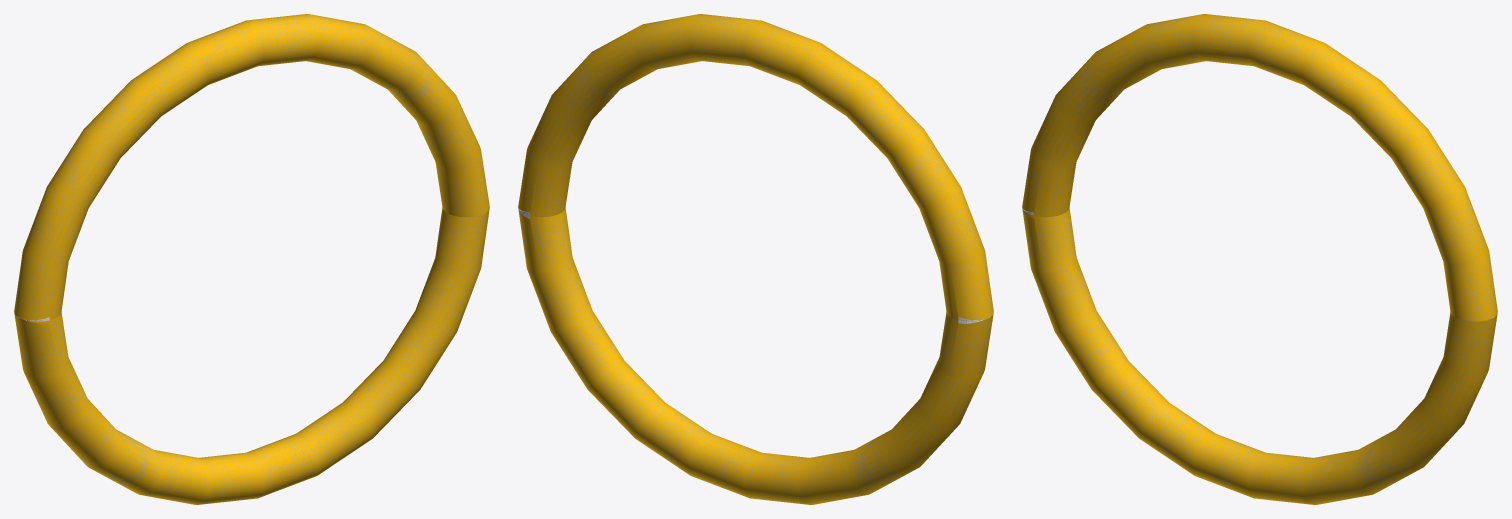
The picture shows the model from 3 angles, left to right: view 1: azimuth 30°, elevation 25°; view 2: azimuth 150°, elevation 25°; view 3: azimuth 330°, elevation 25°; orthographic projection.
Visible parts, largest first — view 1: SketchUp; view 2: SketchUp; view 3: SketchUp.
Part boxes in pixels (bbox=[...]): SketchUp: bbox=[14, 14, 489, 504]; SketchUp: bbox=[518, 14, 993, 504]; SketchUp: bbox=[1022, 14, 1497, 504].
Size of the model in its own units: 125 by 10.94 by 121.
